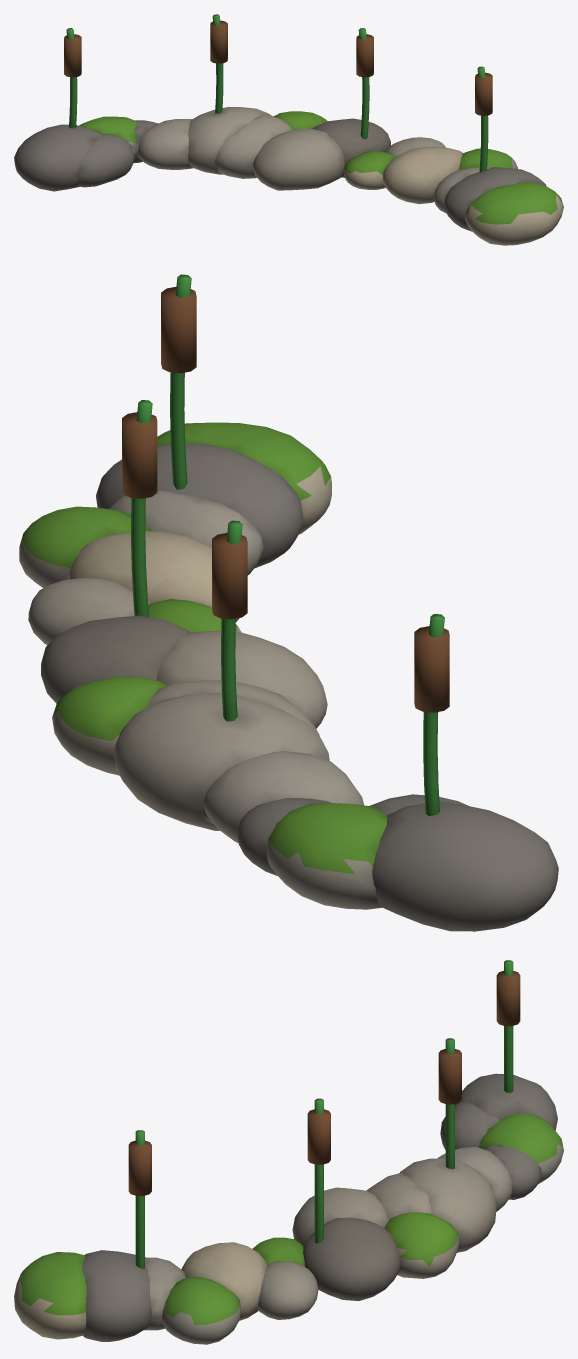
File: glade_pond_edge.glb
3 views of the same model, one above another, from view 1: azimuth 30°, elevation 25°; view 2: azimuth 150°, elevation 25°; view 3: azimuth 270°, elevation 25° (orthographic). The views are drawn at different scales.
Parts seen in each view (by area): view 1: glade_pond_edge; view 2: glade_pond_edge; view 3: glade_pond_edge.
Part boxes in pixels (box(x1,y1,x2,y2)): glade_pond_edge: box(14, 14, 563, 245); glade_pond_edge: box(19, 274, 558, 931); glade_pond_edge: box(14, 960, 563, 1344).
Size of the model in its own units: 26.58 by 10.23 by 25.8.
